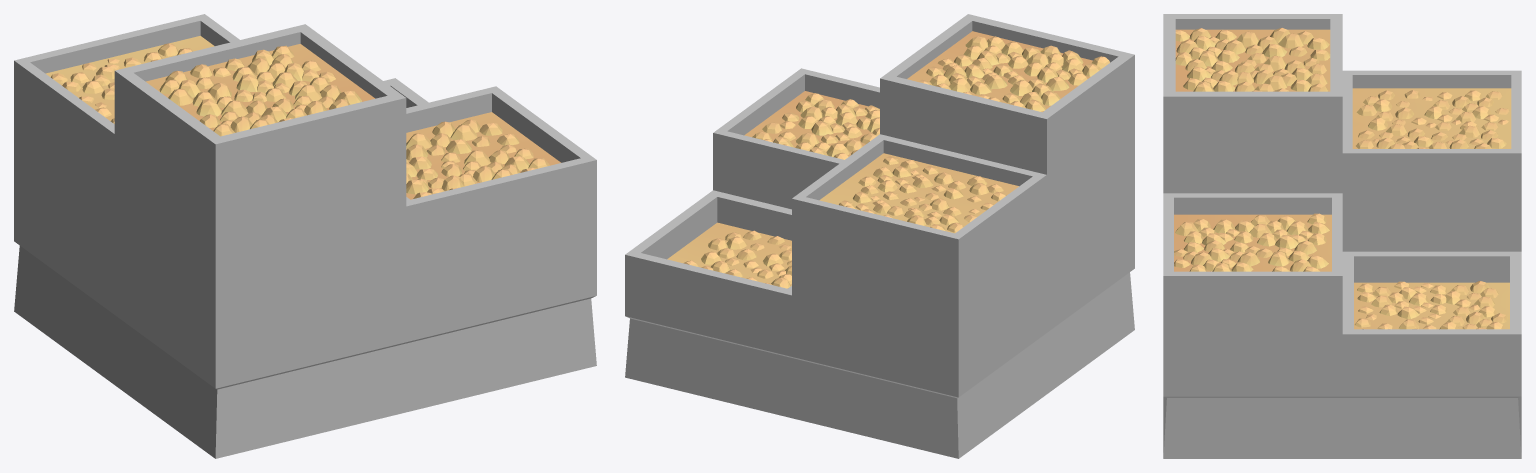
File: Garden_SquarePlanter01.fbx
The picture shows the model from 3 angles, left to right: view 1: azimuth 30°, elevation 25°; view 2: azimuth 150°, elevation 25°; view 3: azimuth 270°, elevation 25°; orthographic projection. The views are drawn at different scales.
Parts seen in each view (by area): view 1: Box Planter; view 2: Box Planter; view 3: Box Planter.
Part boxes in pixels (x1,y1,x2,y2): Box Planter: (14, 14, 596, 458); Box Planter: (625, 14, 1134, 458); Box Planter: (1163, 14, 1521, 458).
Size of the model in its own units: 85.05 by 67.04 by 77.81.
